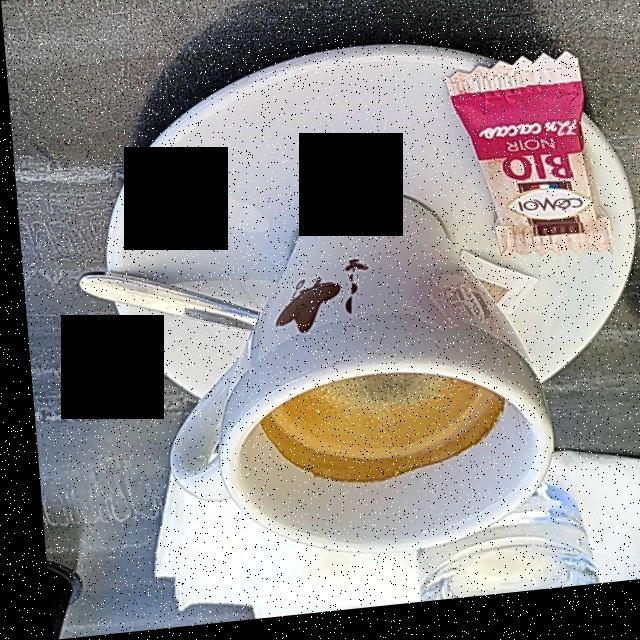risotto: (255, 382, 494, 490)
